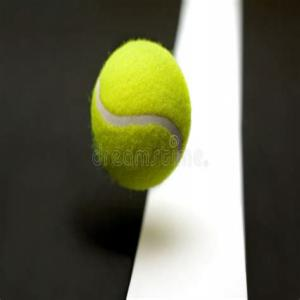Tennis: (89, 34, 193, 195)
